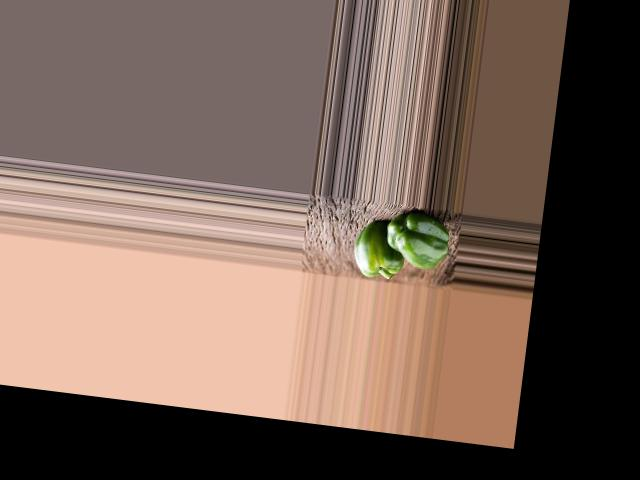bell_pepper: (380, 211, 451, 272)
